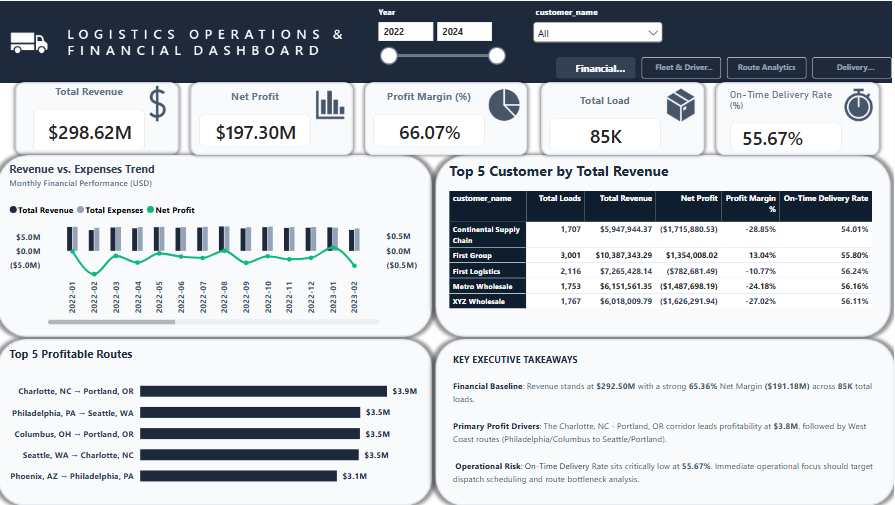

What the dashboard file says about the page in this screenshot:
{"tool":"powerbi","page":{"name":"Financial Overview","canvas":[1920,1080],"ordinal":0},"visuals":[{"type":"cardVisual","title":"Total Revenue","fields":{"Data":["_Measures.Total Revenue"]},"box":[370,295,160,96.2],"z":0},{"type":"cardVisual","title":"On-Time Delivery Rate (%)","fields":{"Data":["_Measures.On-Time Delivery Rate %"]},"box":[1366.2,302.5,160,88.8],"z":1000},{"type":"cardVisual","title":"Total Load","fields":{"Data":["_Measures.Total Loads"]},"box":[1107.5,308.8,160,82.9],"z":2000},{"type":"cardVisual","title":"Profit Margin (%)","fields":{"Data":["_Measures.Profit Margin %"]},"box":[856.2,302.5,160,82.9],"z":3000},{"type":"cardVisual","title":"Net Profit","fields":{"Data":["_Measures.Net Profit"]},"box":[607.5,302.5,160,82.9],"z":4000},{"type":"lineClusteredColumnComboChart","title":"Revenue vs. Expenses Trend","fields":{"Y":["_Measures.Total Revenue","_Measures.Total Expenses"],"Y2":["_Measures.Net Profit"],"Category":["Calendar.Year Month"]},"box":[320,391.4,615.7,264.3],"z":5000},{"type":"clusteredBarChart","title":"Top 5 Profitable Routes","fields":{"Y":["_Measures.Net Profit"],"Category":["loads.Route Lane"]},"box":[320,655.7,615.7,237.1],"z":6000},{"type":"pivotTable","title":"Top 5 Customer by Total Revenue","fields":{"Rows":["customers.customer_name"],"Values":["_Measures.Total Loads","_Measures.Total Revenue","_Measures.Net Profit","_Measures.Profit Margin %","_Measures.On-Time Delivery Rate %"]},"box":[948.6,391.4,650,264.3],"z":7000},{"type":"slicer","fields":{"Values":["Calendar.Year"]},"box":[855.7,184.3,193.8,103.8],"z":8000},{"type":"slicer","fields":{"Values":["customers.customer_name"]},"box":[1080,184.3,193.8,103.8],"z":9000},{"type":"pageNavigator","box":[1117.1,257.1,481.4,31.4],"z":10000},{"type":"textbox","box":[960,668.6,622.9,224.3],"z":12000}]}

Visuals, with their boxes in screenshot pixels (x1, y1, x2, y2), scaled from the page's 1920x1080 canvas onto the 895x505 screenshot:
"Total Revenue" cardVisual: [x1=172, y1=138, x2=247, y2=183]
"On-Time Delivery Rate (%)" cardVisual: [x1=637, y1=141, x2=711, y2=183]
"Total Load" cardVisual: [x1=516, y1=144, x2=591, y2=183]
"Profit Margin (%)" cardVisual: [x1=399, y1=141, x2=474, y2=180]
"Net Profit" cardVisual: [x1=283, y1=141, x2=358, y2=180]
"Revenue vs. Expenses Trend" lineClusteredColumnComboChart: [x1=149, y1=183, x2=436, y2=307]
"Top 5 Profitable Routes" clusteredBarChart: [x1=149, y1=307, x2=436, y2=417]
"Top 5 Customer by Total Revenue" pivotTable: [x1=442, y1=183, x2=745, y2=307]
slicer - Calendar.Year: [x1=399, y1=86, x2=489, y2=135]
slicer - customers.customer_name: [x1=503, y1=86, x2=594, y2=135]
pageNavigator: [x1=521, y1=120, x2=745, y2=135]
textbox: [x1=448, y1=313, x2=738, y2=418]
